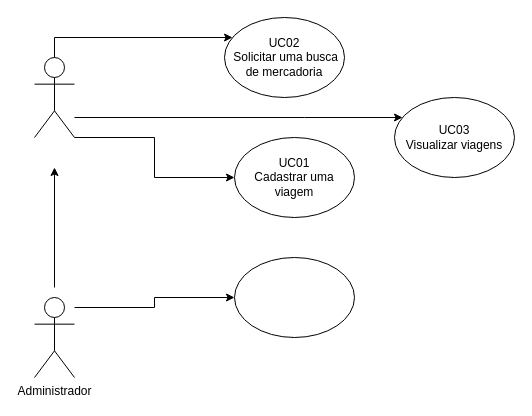
Image size: 532x416. Some labels were removed from this diagram. Each missing label, with the centre of its shape:
"Solicitante" goes at point (54, 97).
"UC04 Alterar/Excluir uma viagem" goes at point (294, 297).
